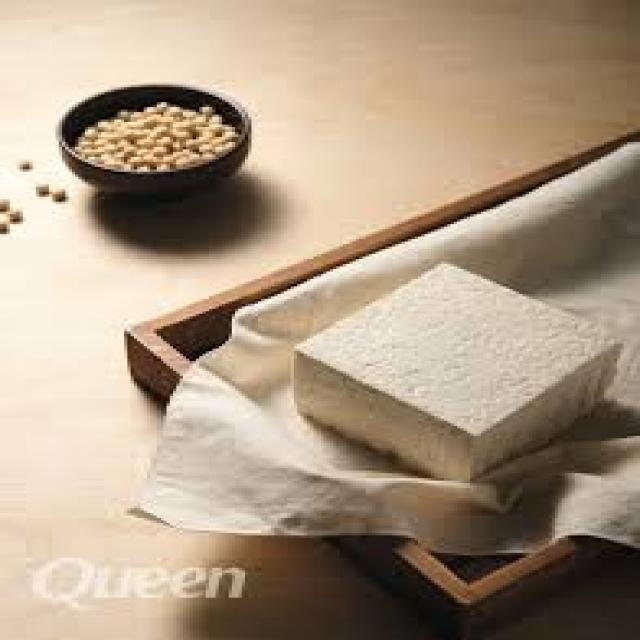tofu: (271, 261, 640, 471)
